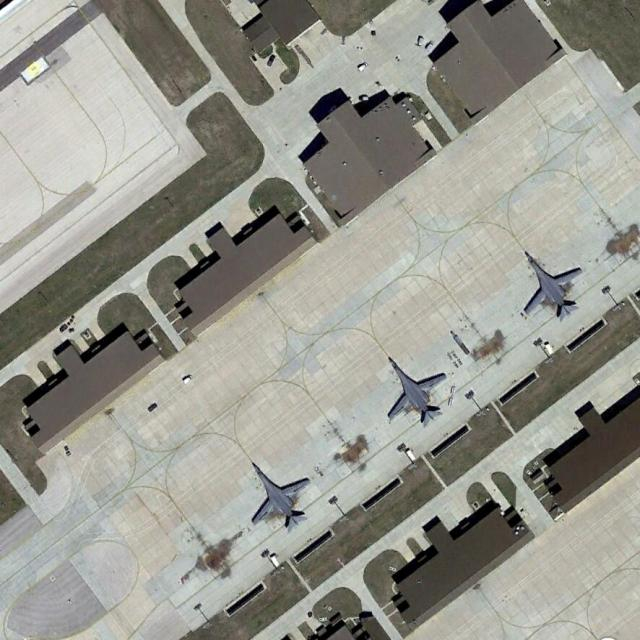fighter jet: (380, 350, 445, 421), (514, 246, 579, 314), (247, 459, 309, 528)
